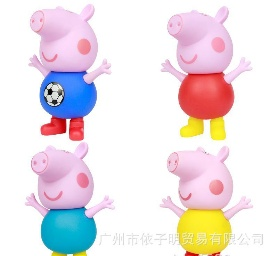Peppa: (161, 6, 252, 141)
